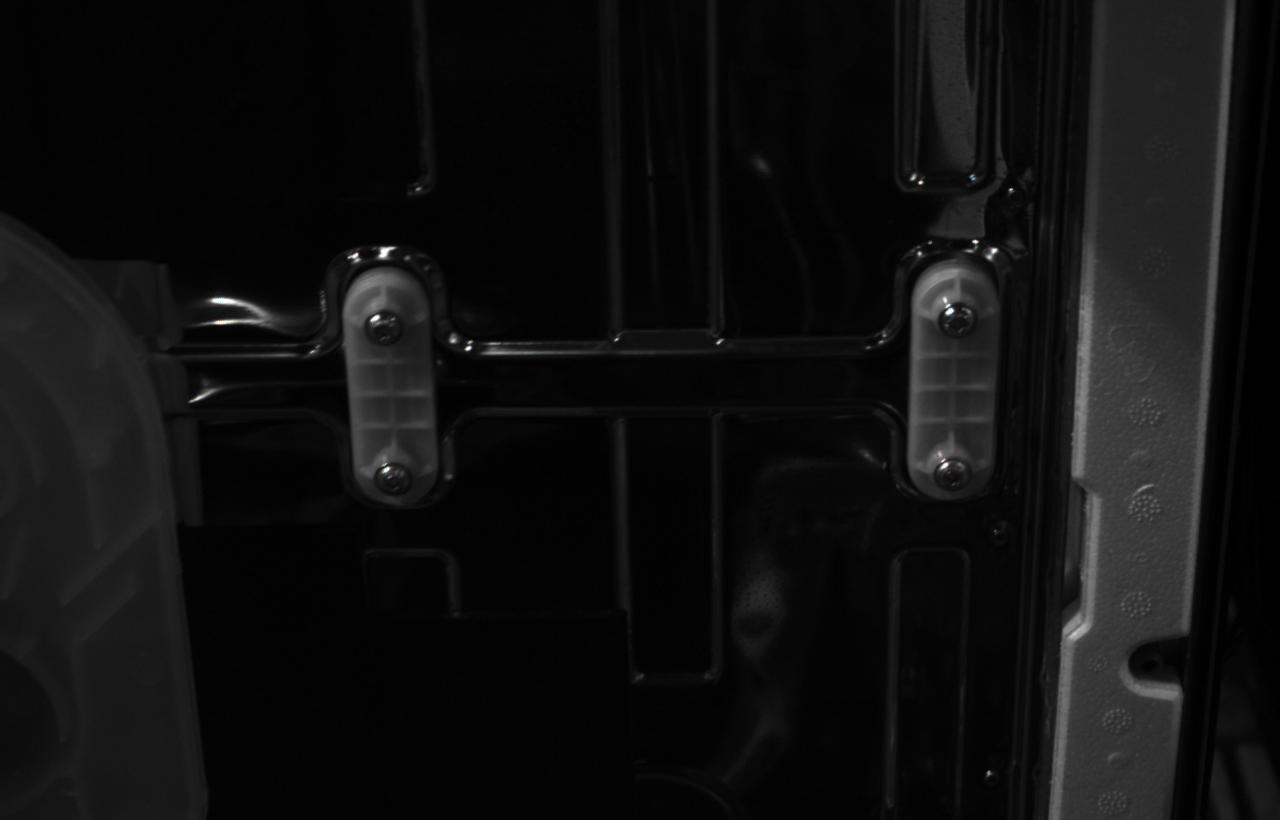vida-ok: (935, 301, 980, 342), (372, 461, 416, 500), (933, 455, 975, 494), (364, 310, 405, 349)
